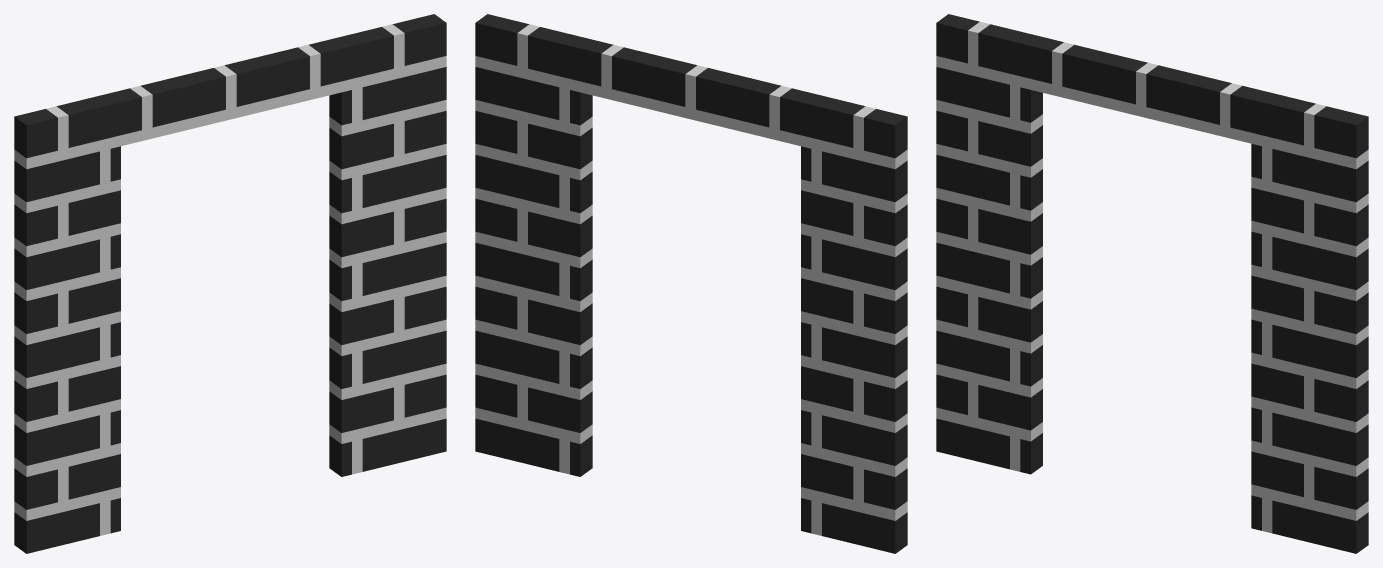
Rendered from ConstructionMaterials-40.obj.
3 views of the same model, side by side, from view 1: azimuth 30°, elevation 25°; view 2: azimuth 150°, elevation 25°; view 3: azimuth 330°, elevation 25° (orthographic).
Bounding box in the file's own units: 4 × 3.9 × 0.2.
Materials: 1 (1 with a texture image).
